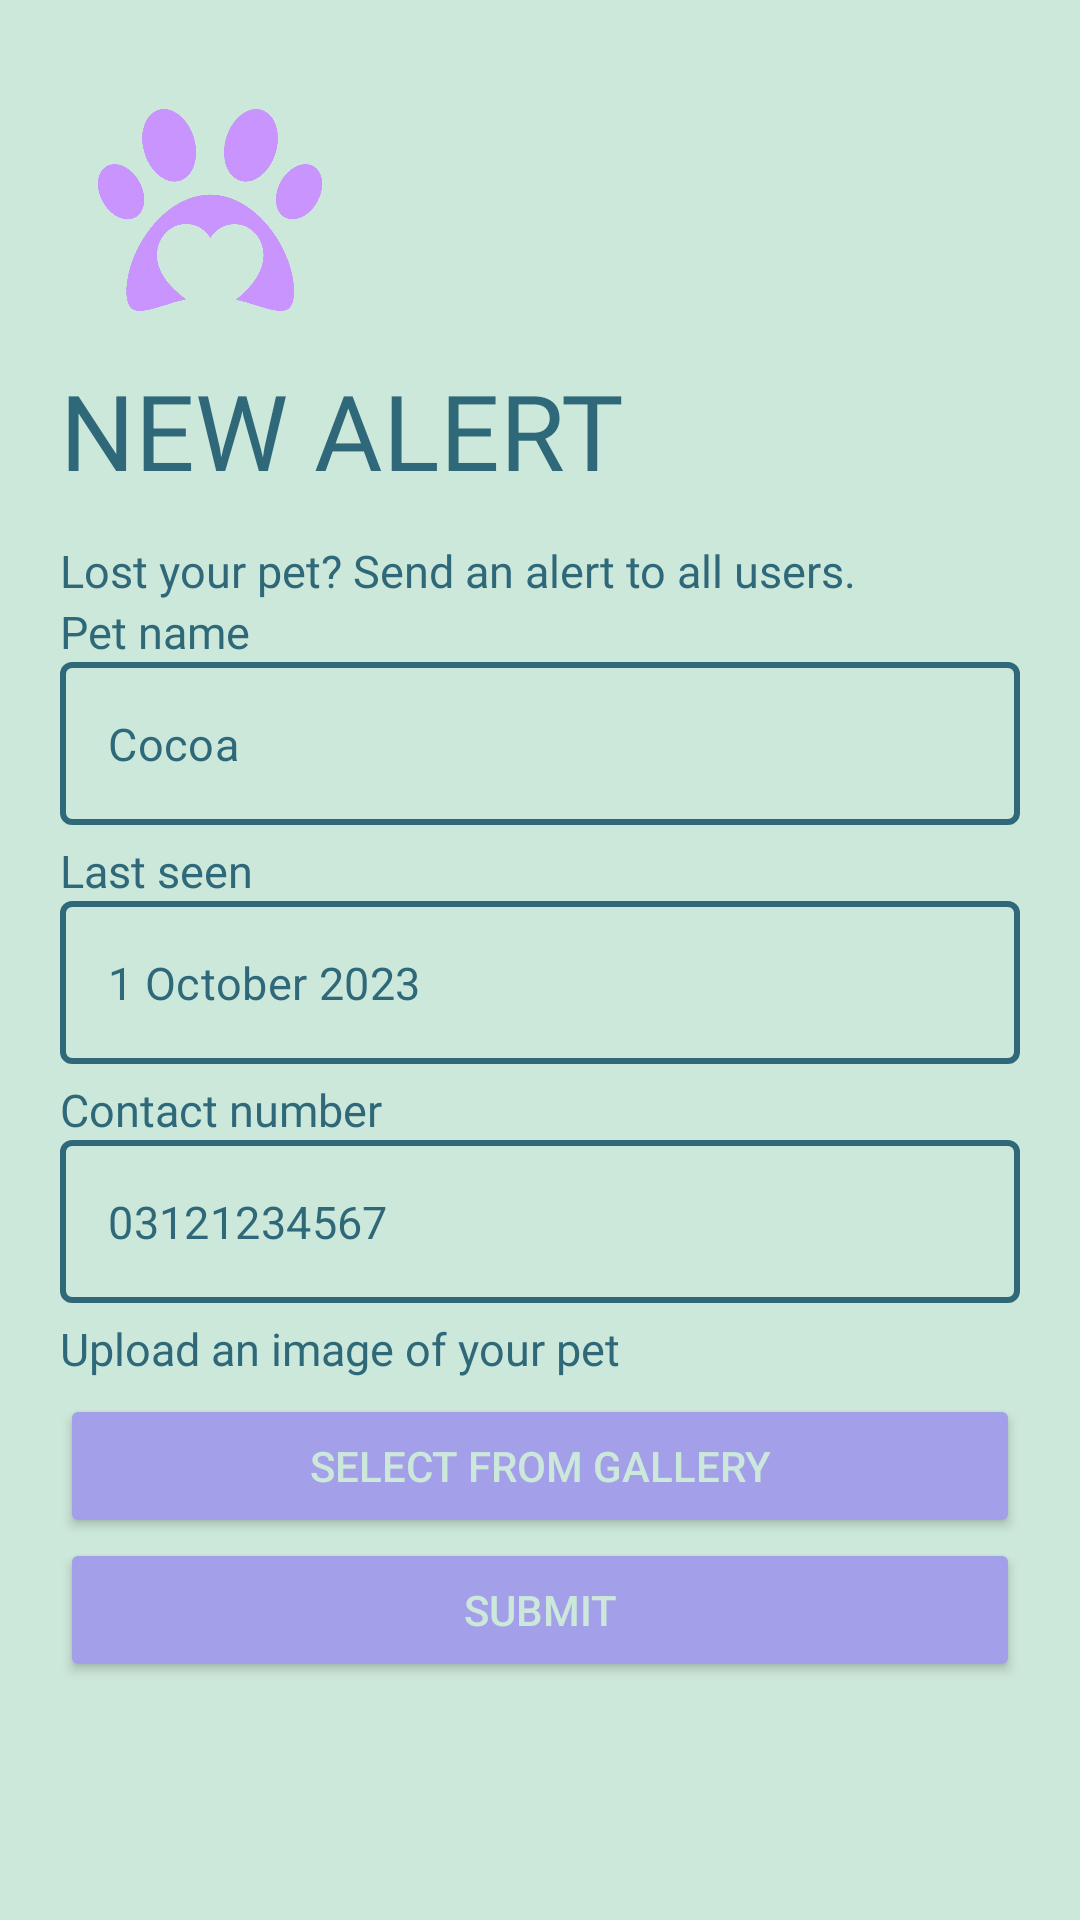

Icon click points for this 1080×1920 phone screenshot, format (x,y):
paw: (210,210)
